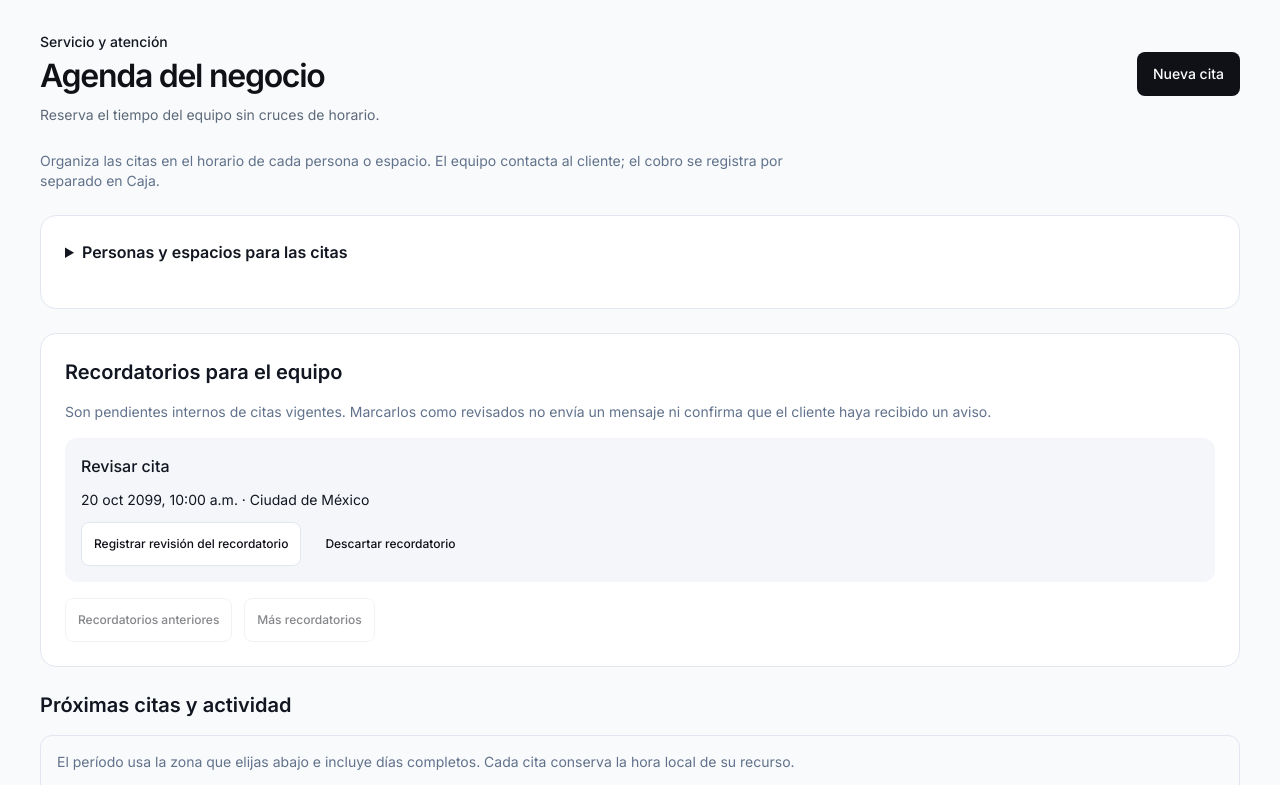
resolves internal reminders without claiming an external message
Click the button "Registrar revisión del recordatorio" at (191, 544), box [81,522,301,566]
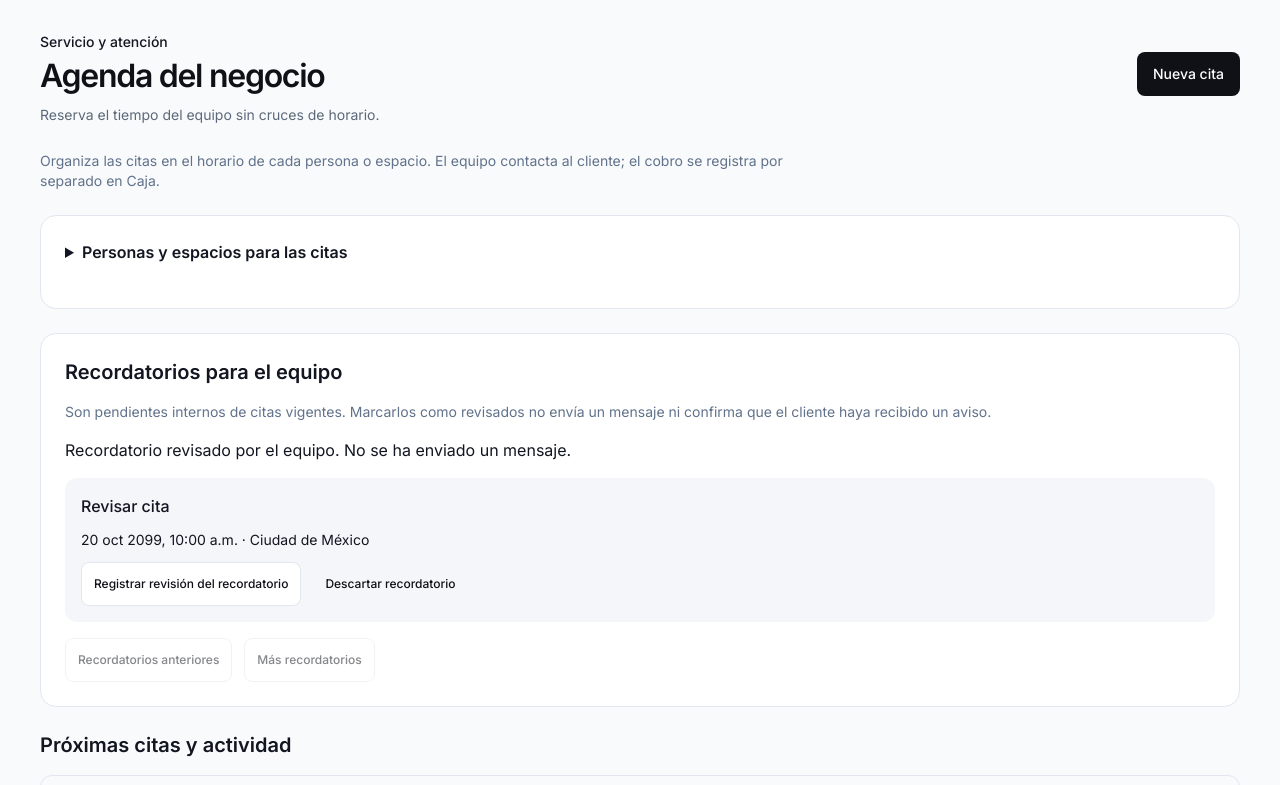
Result: the text "Recordatorio revisado por el equipo. No se ha enviado un mensaje." is shown at [65,440,571,460]
